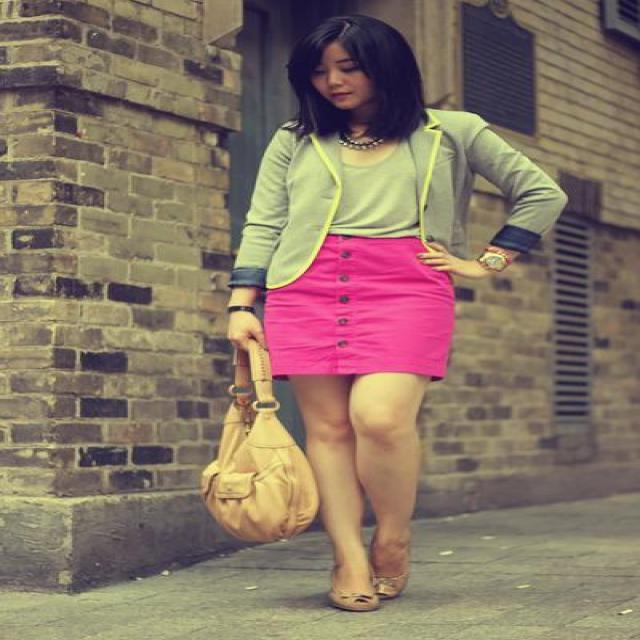bag: (202, 351, 316, 540)
jacket: (230, 109, 566, 288)
shirt: (326, 144, 426, 242)
shoe: (334, 593, 398, 611)
skirt: (262, 232, 453, 376)
